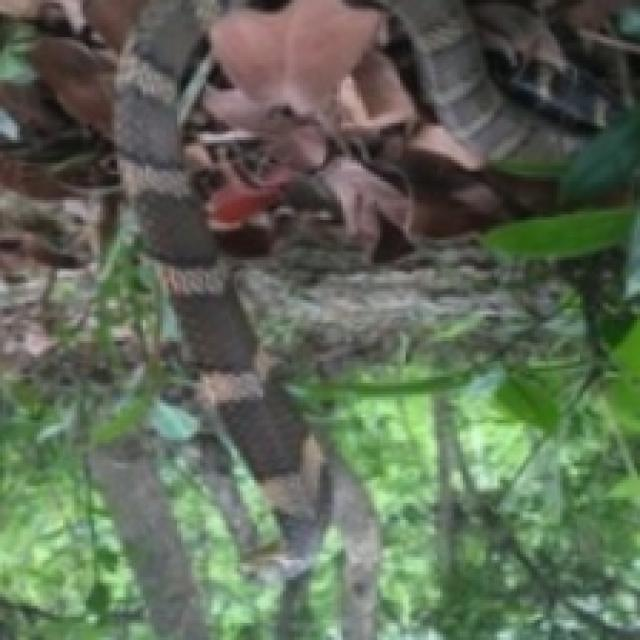king cobra: (89, 0, 637, 637)
